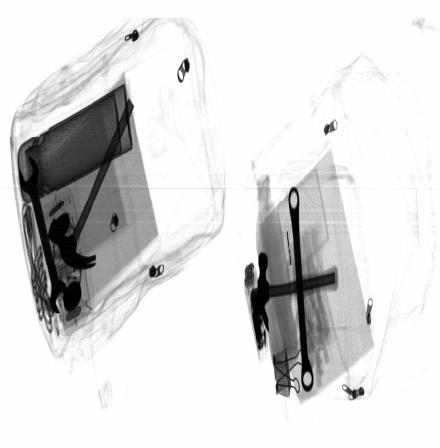Hammer: (49, 96, 135, 271), (256, 253, 340, 334)
Wrench: (17, 159, 68, 315), (288, 185, 315, 394)
